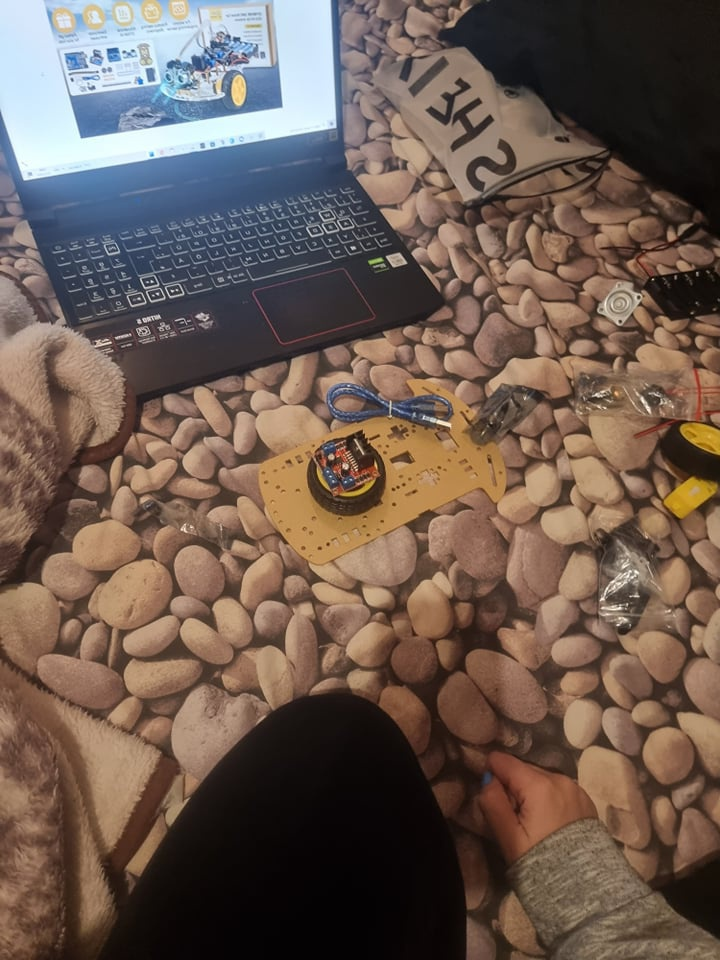BATTERY BOX: (646, 266, 717, 324)
MOTOR: (310, 434, 380, 492)
